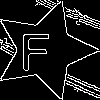F: (19, 25, 51, 70)
